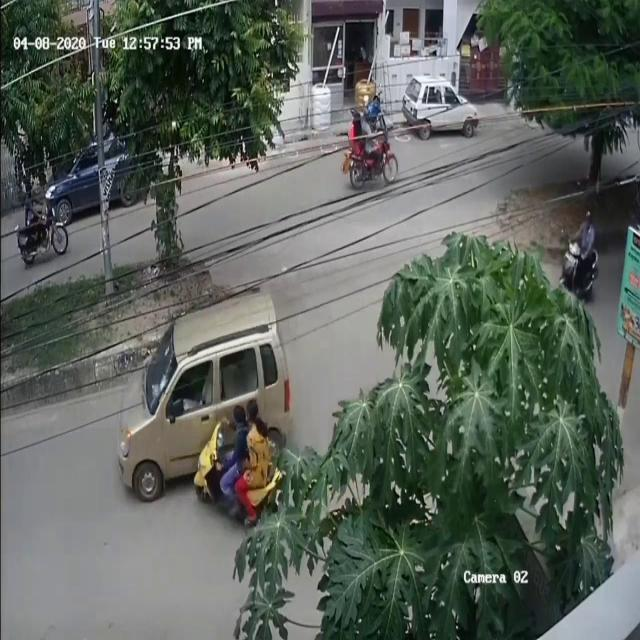accident: (109, 290, 296, 538)
